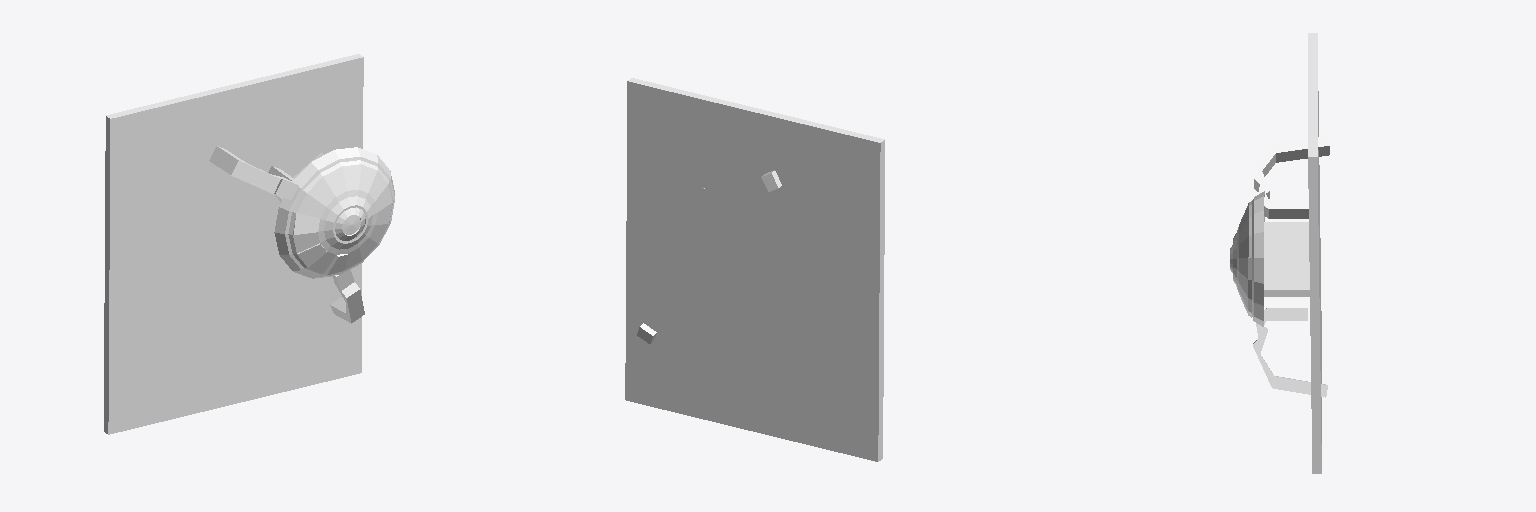
The picture shows the model from 3 angles: view 1: azimuth 30°, elevation 25°; view 2: azimuth 150°, elevation 25°; view 3: azimuth 270°, elevation 25°; orthographic projection.
Bounding box in the file's own units: 17191 × 19853 × 5663.
6 materials, 1 textured.